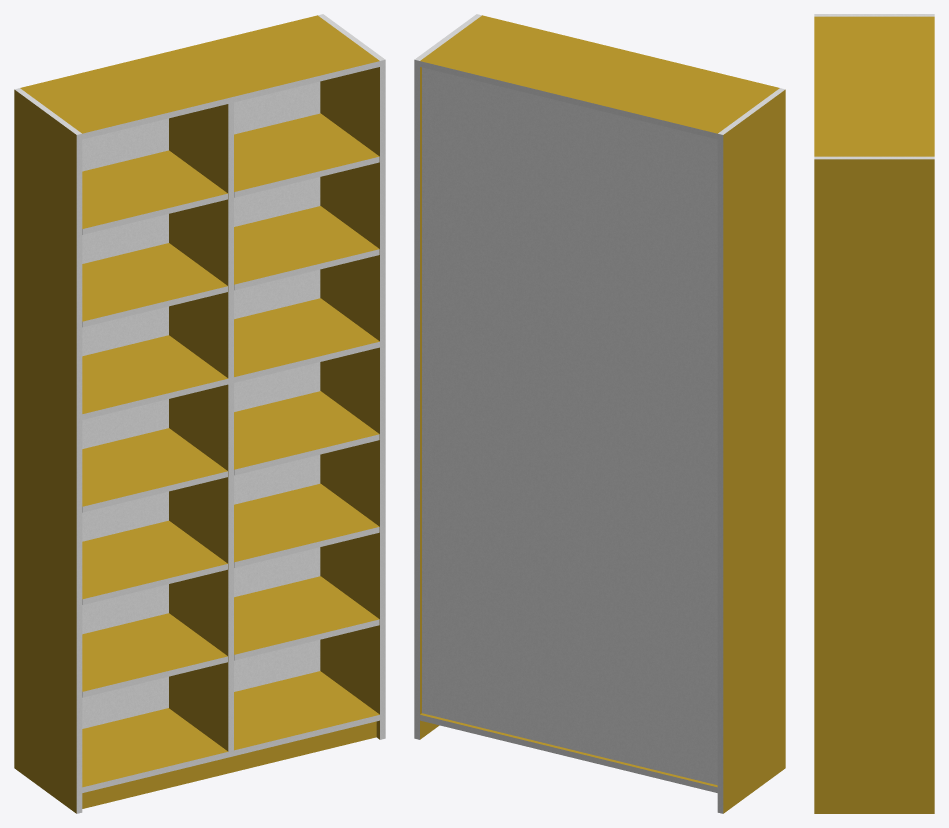
File: FET-BKC-tall.glb
3 renders of one model, left to right at view 1: azimuth 30°, elevation 25°; view 2: azimuth 150°, elevation 25°; view 3: azimuth 270°, elevation 25°, orthographic. The views are drawn at different scales.
Visible parts, largest first — view 1: side-l:pbr, back:sheet:eyJtIjoibWRmIiwic2lkZSI6ImZhY2UiLCJzZWVkIjowLCJ0a, partition:pbr, side-r:pbr, top:pbr, bottom:pbr, shelf-fixedl:pbr, shelf-fixedr:pbr, shelf-1:pbr, shelf-7:pbr, shelf-9:pbr, shelf-3:pbr (+24 smaller); view 2: back:sheet:eyJtIjoibWRmIiwic2lkZSI6ImZhY2UiLCJzZWVkIjowLCJ0a, side-l:pbr, top:pbr, side-l:sheet:eyJtIjoibWRmIiwic2lkZSI6ImVkZ2UtbG9uZyIsInNlZWQ, side-r:sheet:eyJtIjoibWRmIiwic2lkZSI6ImVkZ2UtbG9uZyIsInNlZWQ, top:sheet:eyJtIjoibWRmIiwic2lkZSI6ImVkZ2UtbG9uZyIsInNlZWQiOj, bottom:sheet:eyJtIjoibWRmIiwic2lkZSI6ImVkZ2UtbG9uZyIsInNlZWQ, side-r:pbr, bottom:pbr; view 3: side-r:pbr, top:pbr, side-r:sheet:eyJtIjoibWRmIiwic2lkZSI6ImVkZ2UtZW5kIiwic2VlZCI, side-l:sheet:eyJtIjoibWRmIiwic2lkZSI6ImVkZ2UtZW5kIiwic2VlZCI.
Boxes of the visible parts, x1,y1,x2,y2 form: side-l:pbr: (14,89,76,813); back:sheet:eyJtIjoibWRmIiwic2lkZSI6ImZhY2UiLCJzZWVkIjowLCJ0a: (82,81,320,728); partition:pbr: (169,104,228,751); side-r:pbr: (320,67,379,739); top:pbr: (20,15,379,133); bottom:pbr: (82,671,379,787); shelf-fixedl:pbr: (82,335,227,413); shelf-fixedr:pbr: (234,298,379,376); shelf-1:pbr: (82,613,227,691); shelf-7:pbr: (82,243,227,321); shelf-9:pbr: (82,150,227,228); shelf-3:pbr: (82,520,227,599); back:sheet:eyJtIjoibWRmIiwic2lkZSI6ImZhY2UiLCJzZWVkIjowLCJ0a: (422,67,717,785); side-l:pbr: (723,89,785,813); top:pbr: (420,15,779,133); side-l:sheet:eyJtIjoibWRmIiwic2lkZSI6ImVkZ2UtbG9uZyIsInNlZWQ: (717,134,723,813); side-r:sheet:eyJtIjoibWRmIiwic2lkZSI6ImVkZ2UtbG9uZyIsInNlZWQ: (414,59,419,739); top:sheet:eyJtIjoibWRmIiwic2lkZSI6ImVkZ2UtbG9uZyIsInNlZWQiOj: (420,61,717,139); bottom:sheet:eyJtIjoibWRmIiwic2lkZSI6ImVkZ2UtbG9uZyIsInNlZWQ: (420,715,717,792); side-r:pbr: (420,67,439,739); bottom:pbr: (420,713,717,787); side-r:pbr: (814,159,934,813); top:pbr: (814,16,934,156); side-r:sheet:eyJtIjoibWRmIiwic2lkZSI6ImVkZ2UtZW5kIiwic2VlZCI: (814,156,934,159); side-l:sheet:eyJtIjoibWRmIiwic2lkZSI6ImVkZ2UtZW5kIiwic2VlZCI: (814,14,934,16).
Bounding box in the file's own units: 1 × 2.1 × 0.35.
57 materials, 39 textured.
